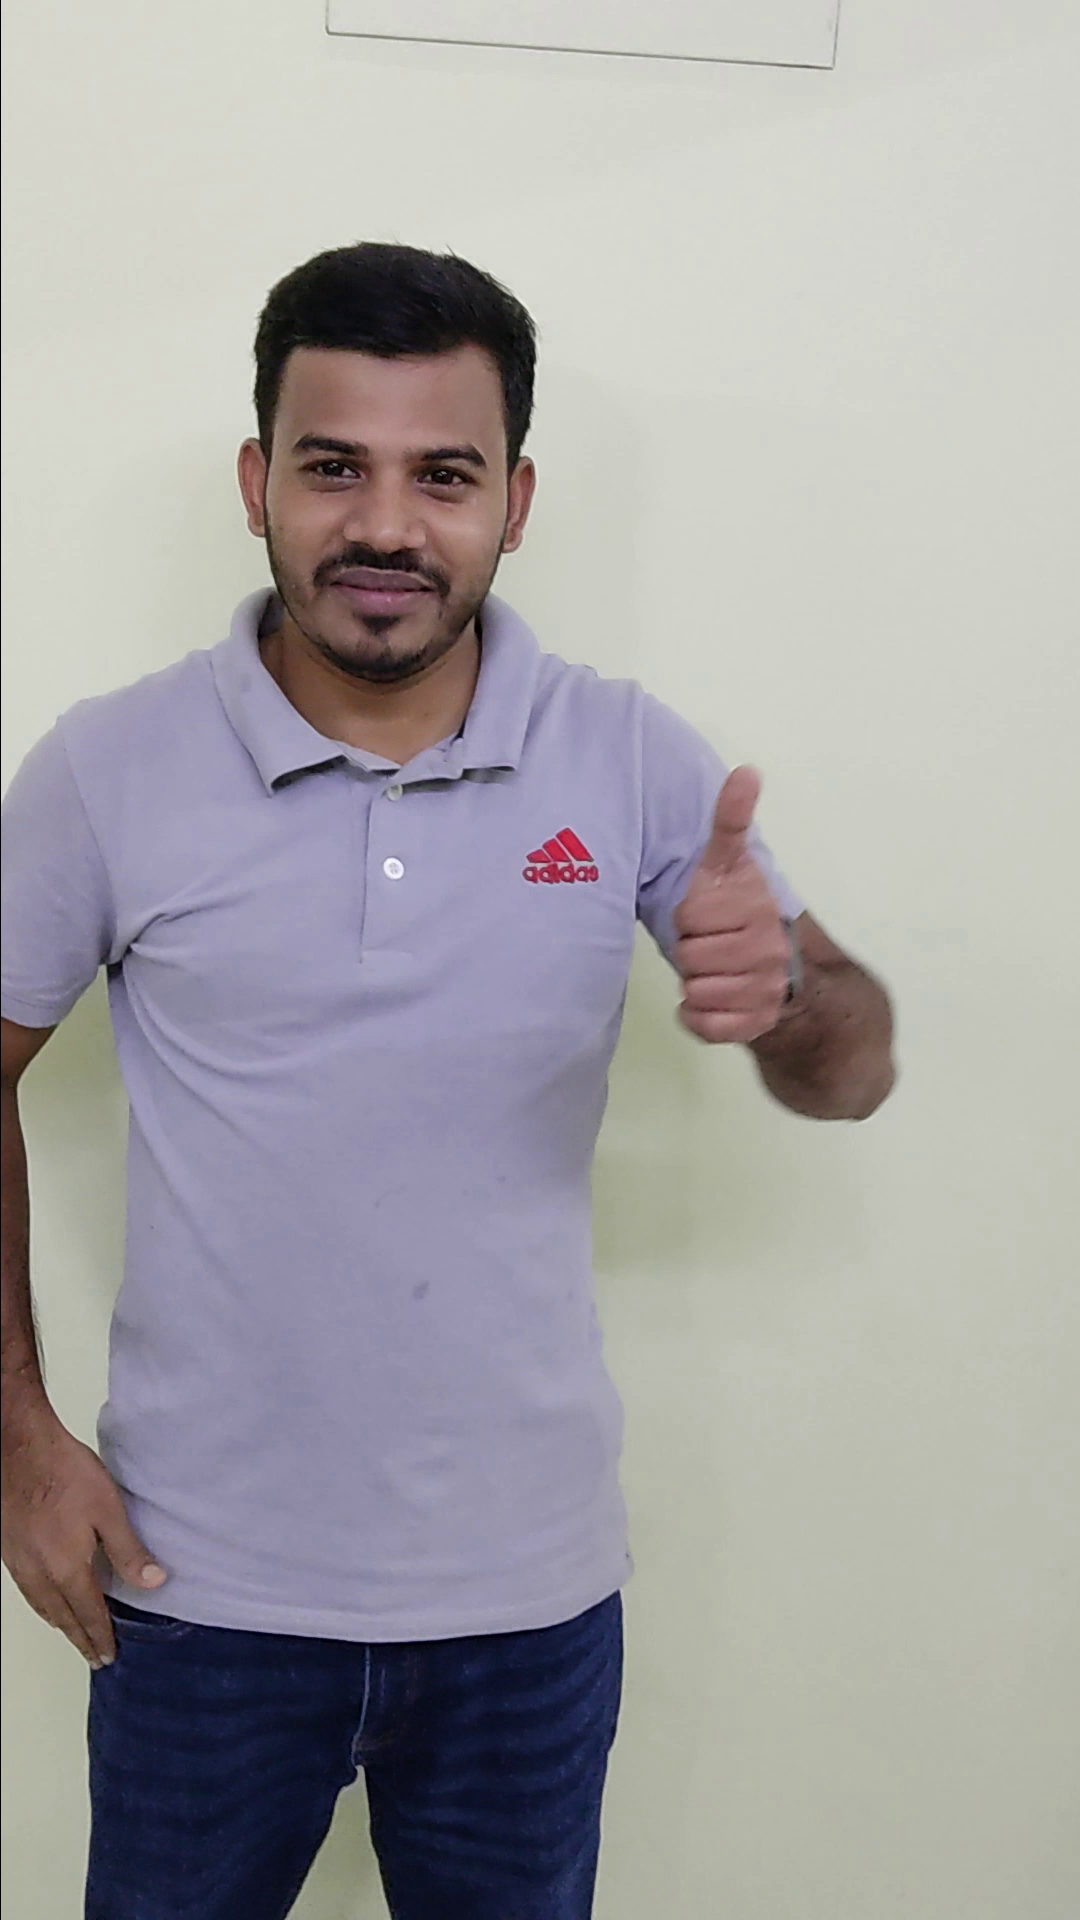Like: (655, 740, 825, 1058)
None: (3, 1395, 189, 1679)
